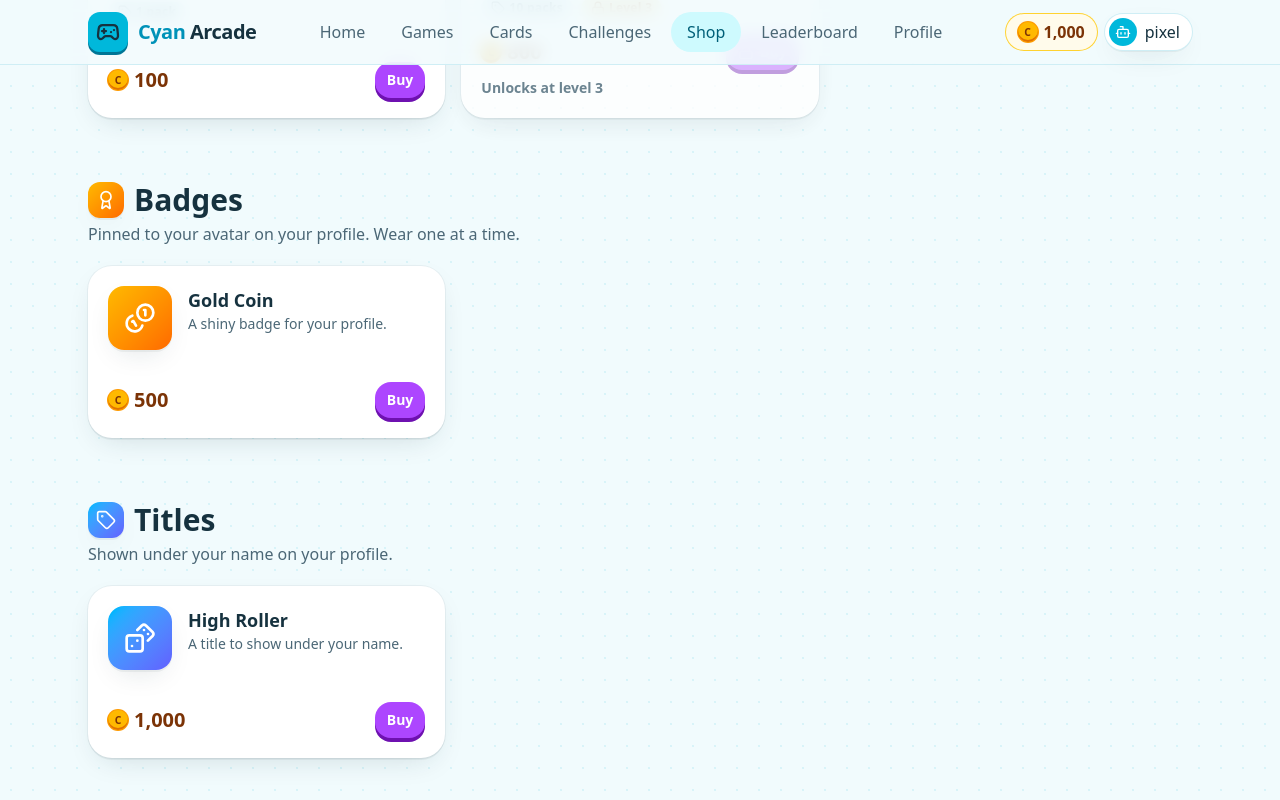
Test: when the shop says no › explains a refusal the page did not see coming
(page scrolled)
What coordinates should you click on to do the following:
click the button "Buy" in the row of "500"
I would click on:
 (400, 400)
Its box is [375,382,425,418].
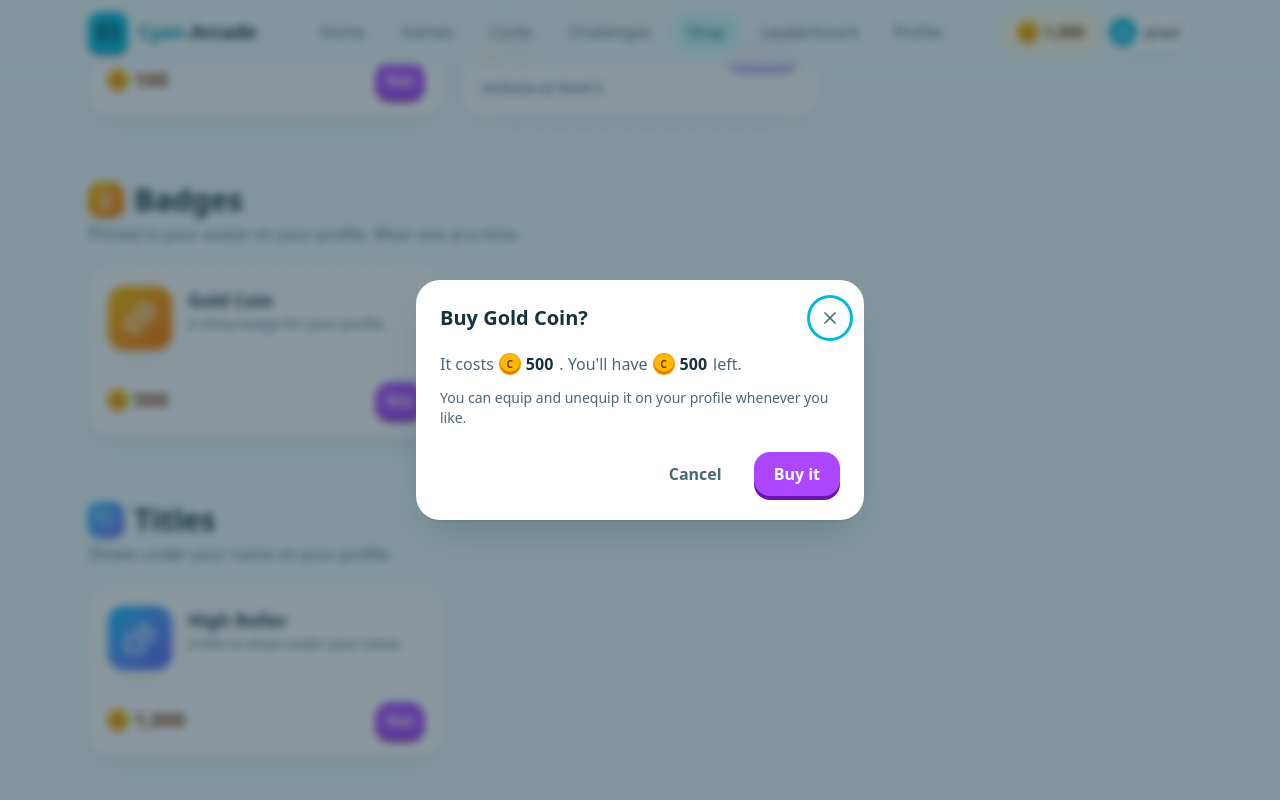
What coordinates should you click on to do the following:
click the button "Buy it"
I would click on:
 (797, 474)
Its box is [754,452,840,496].
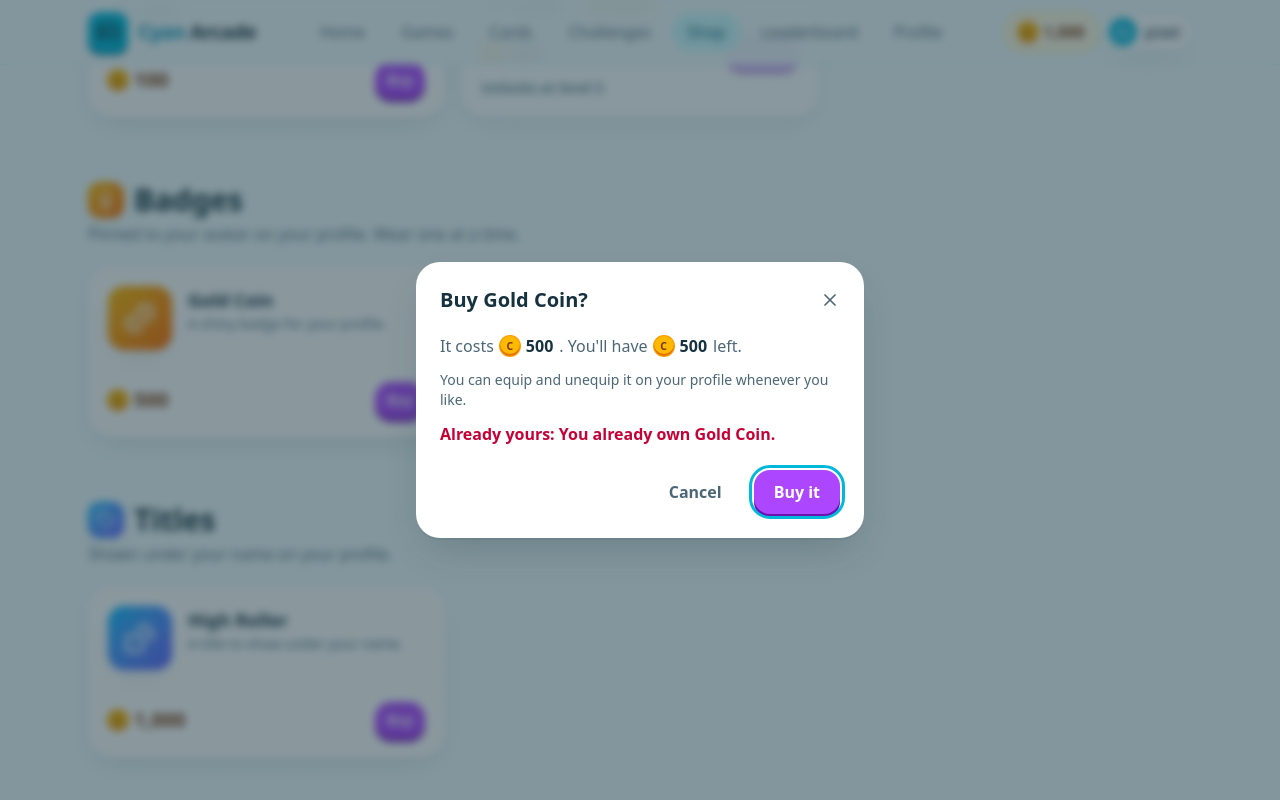
Expected: the message reads "Already yours: You already own Gold Coin.", [440,423,775,445]
